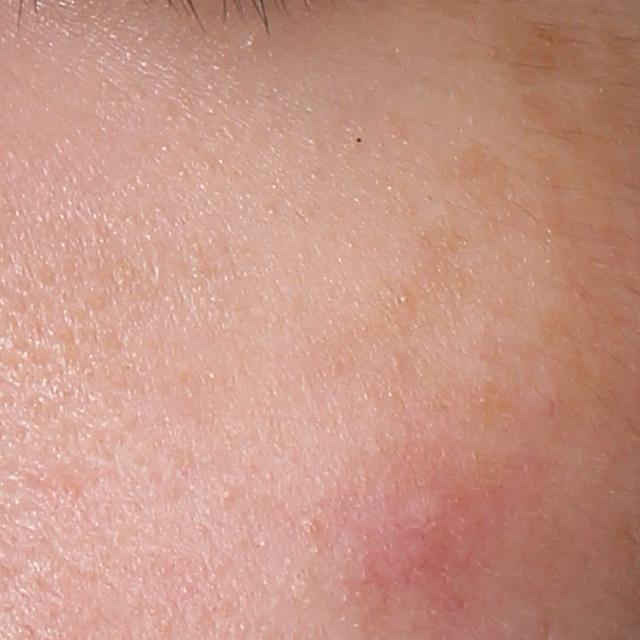comedo: (301, 518, 320, 536)
